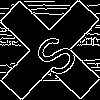S: (25, 25, 81, 81)
